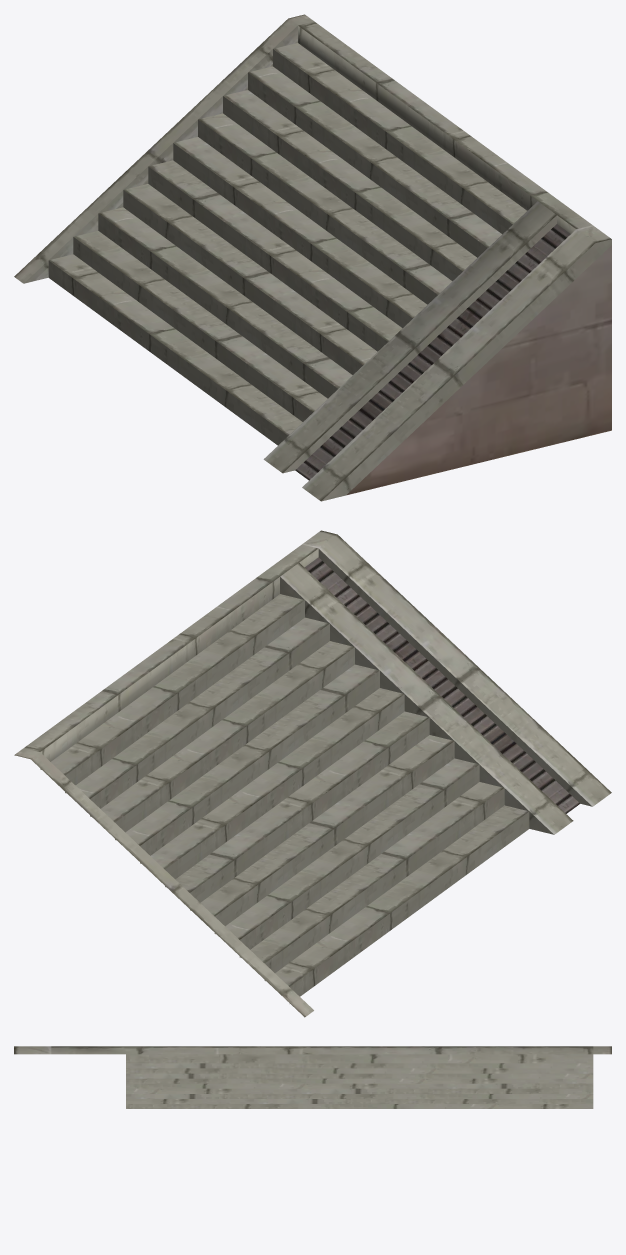
The picture shows the model from 3 angles, top to bottom: view 1: azimuth 30°, elevation 25°; view 2: azimuth 150°, elevation 25°; view 3: azimuth 270°, elevation 25°; orthographic projection. The views are drawn at different scales.
Parts seen in each view (by area): view 1: body0_model0_lod0_mesh0, body0_model0_lod0_mesh1, body0_model0_lod0_mesh2; view 2: body0_model0_lod0_mesh0, body0_model0_lod0_mesh2; view 3: body0_model0_lod0_mesh0.
Boxes of the visible parts, <box> form: body0_model0_lod0_mesh0: <box>14,14,611,501</box>; body0_model0_lod0_mesh1: <box>346,245,611,495</box>; body0_model0_lod0_mesh2: <box>295,224,570,480</box>; body0_model0_lod0_mesh0: <box>14,530,611,1017</box>; body0_model0_lod0_mesh2: <box>305,557,579,813</box>; body0_model0_lod0_mesh0: <box>14,1046,611,1108</box>.
Bounding box in the file's own units: 140 × 88.01 × 256.
Materials: 3 (3 with a texture image).
